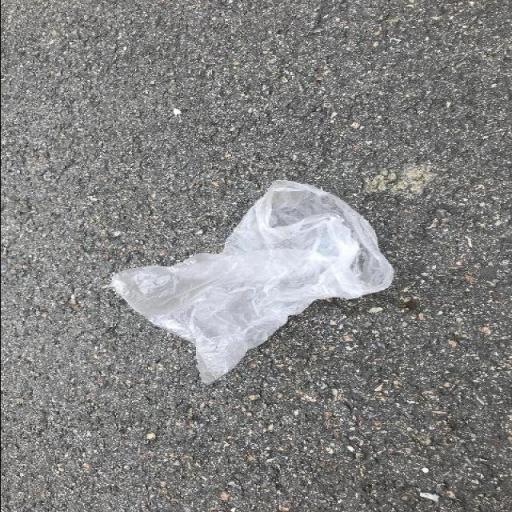plastic-bag: (108, 178, 399, 388)
